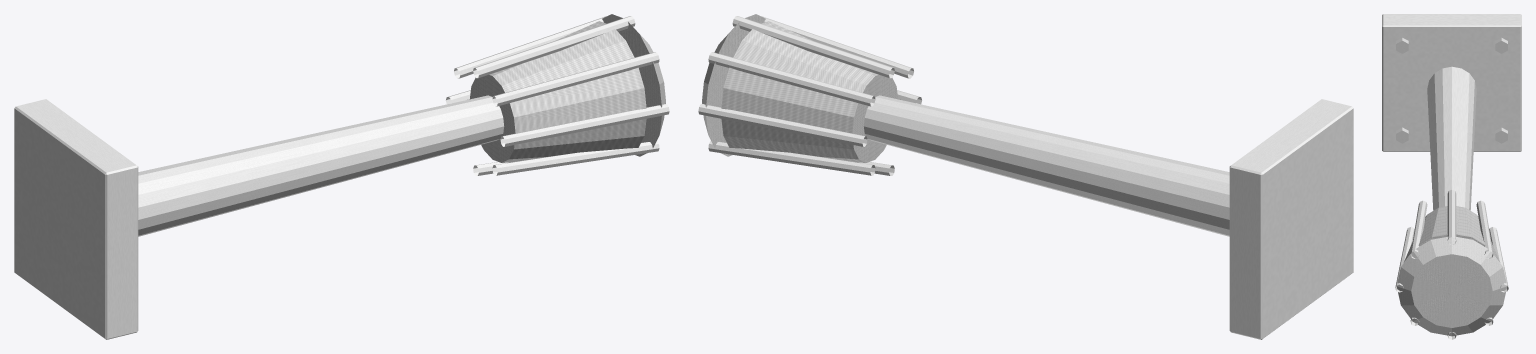
Rendered from poolsidetikilight.obj.
3 views of the same model, side by side, from view 1: azimuth 30°, elevation 25°; view 2: azimuth 150°, elevation 25°; view 3: azimuth 270°, elevation 25° (orthographic). The views are drawn at different scales.
Parts seen in each view (by area): view 1: Metal, Base, Shade, Trim; view 2: Metal, Base, Shade, Trim; view 3: Base, Trim, Metal, Shade.
Boxes of the visible parts, bbox=[...] form: Metal: bbox=[138, 16, 669, 236]; Base: bbox=[14, 99, 138, 339]; Shade: bbox=[470, 21, 646, 162]; Trim: bbox=[602, 14, 665, 156]; Metal: bbox=[698, 16, 1229, 236]; Base: bbox=[1229, 99, 1353, 339]; Shade: bbox=[721, 21, 897, 162]; Trim: bbox=[702, 14, 765, 156]; Base: bbox=[1382, 14, 1521, 151]; Trim: bbox=[1396, 37, 1507, 336]; Metal: bbox=[1395, 66, 1508, 339]; Shade: bbox=[1403, 206, 1500, 262].
Bounding box in the file's own units: 1.74 × 0.48 × 0.48.
